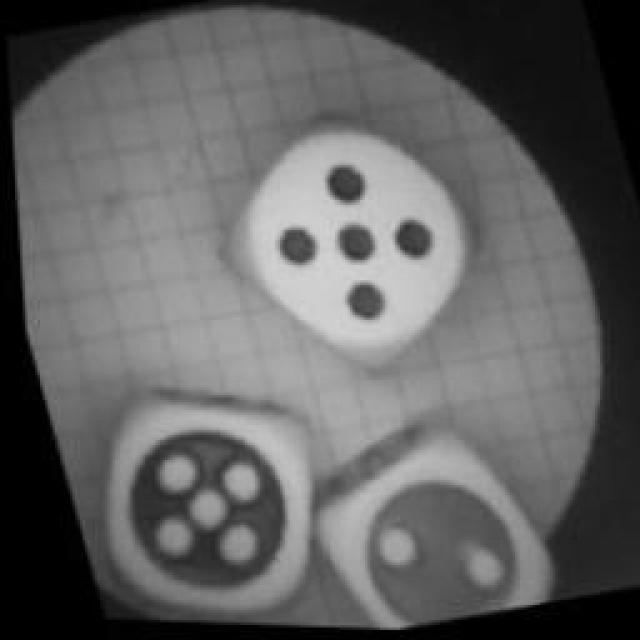dice_2: (280, 400, 560, 638)
dice_5: (179, 87, 509, 405), (45, 346, 357, 632)
